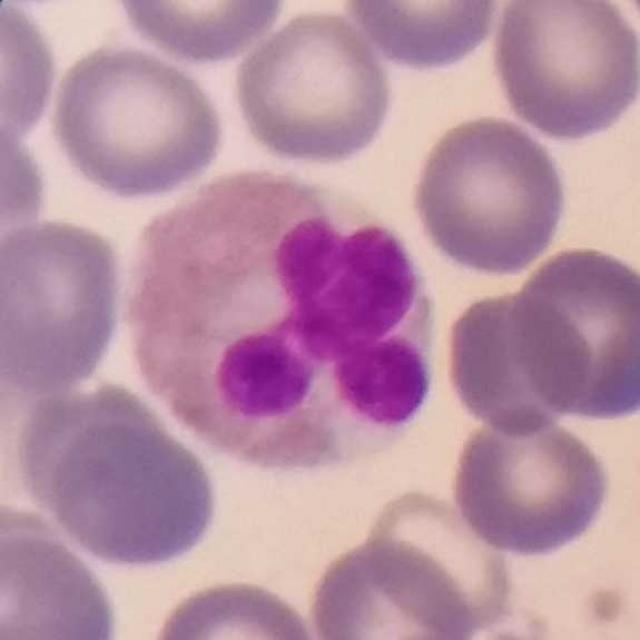eosino: (124, 169, 440, 476)
